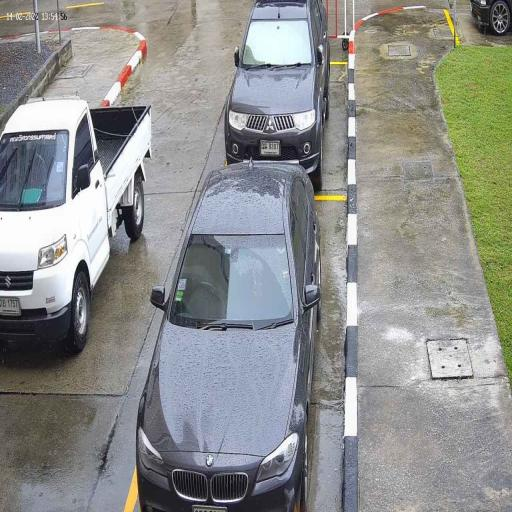car: (134, 159, 326, 507), (0, 93, 154, 359), (221, 0, 333, 177)
